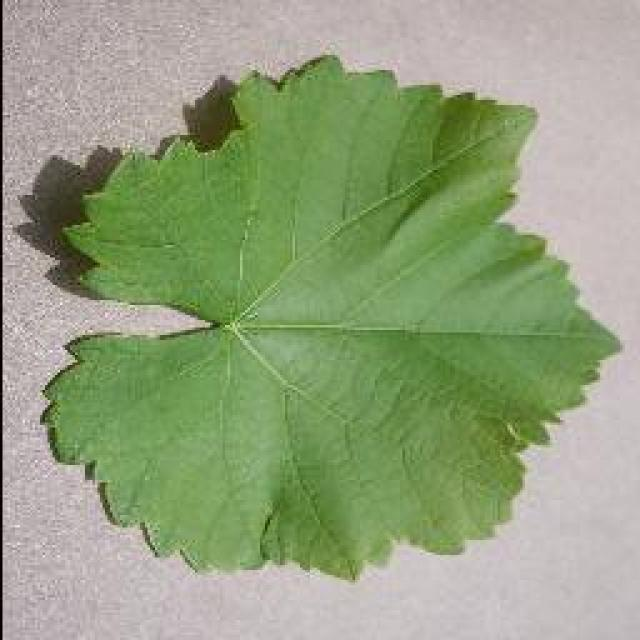Grape___healthy: (45, 55, 615, 575)
